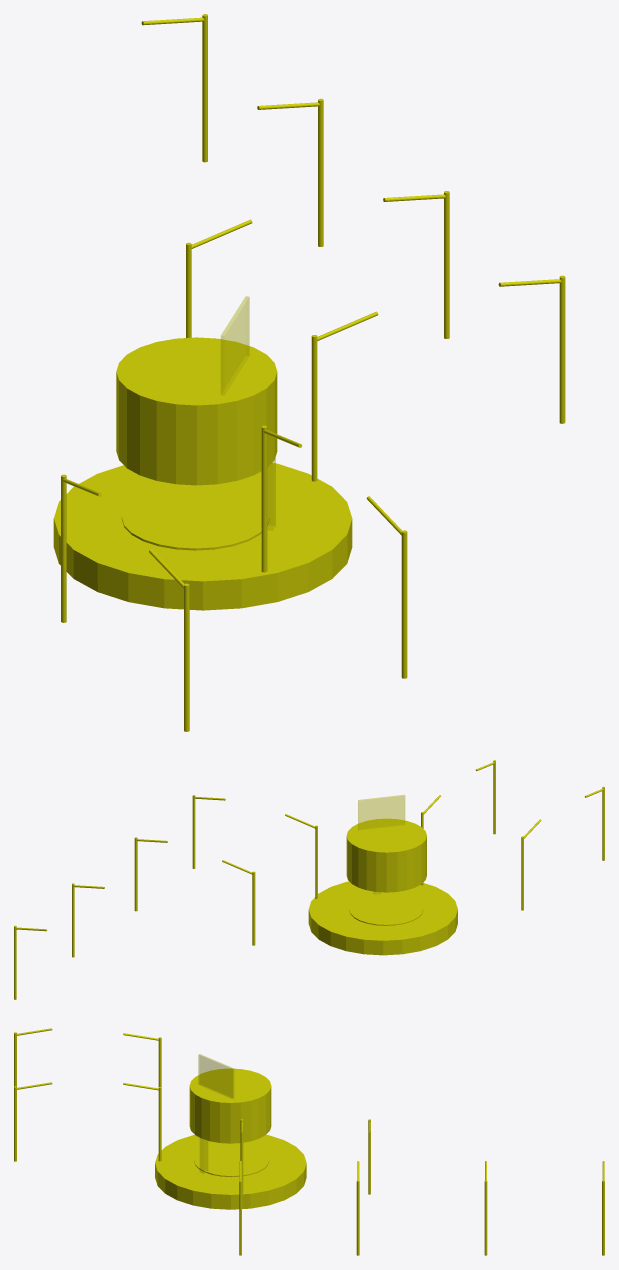
Rendered from flynns-collider.dae.
The picture shows the model from 3 angles, top to bottom: view 1: azimuth 30°, elevation 25°; view 2: azimuth 150°, elevation 25°; view 3: azimuth 270°, elevation 25°; orthographic projection. The views are drawn at different scales.
Visible parts, largest first — view 1: Cylinder_021, Cylinder_008, Cylinder_022, Cube_002, Cylinder_010, Cylinder_014, Cylinder_005, Cylinder; view 2: Cylinder_021, Cylinder_008, Cylinder_022, Cube_002; view 3: Cylinder_021, Cylinder_008, Cylinder_022, Cube_002.
Boxes of the visible parts, x1,y1,x2,y2 form: Cylinder_021: (53,462,352,610); Cylinder_008: (116,337,277,485); Cylinder_022: (121,486,269,550); Cube_002: (221,296,249,394); Cylinder_010: (401,530,407,678); Cylinder_014: (559,275,565,423); Cylinder_005: (311,335,317,481); Cylinder: (261,425,267,572); Cylinder_021: (308,881,457,955); Cylinder_008: (346,818,426,892); Cylinder_022: (349,893,423,925); Cube_002: (358,795,404,829); Cylinder_021: (155,1134,306,1209); Cylinder_008: (189,1068,271,1143); Cylinder_022: (194,1144,269,1177); Cube_002: (198,1054,233,1098).
Size of what is drawn, in the model's own units: 173 by 289 by 65.1.
